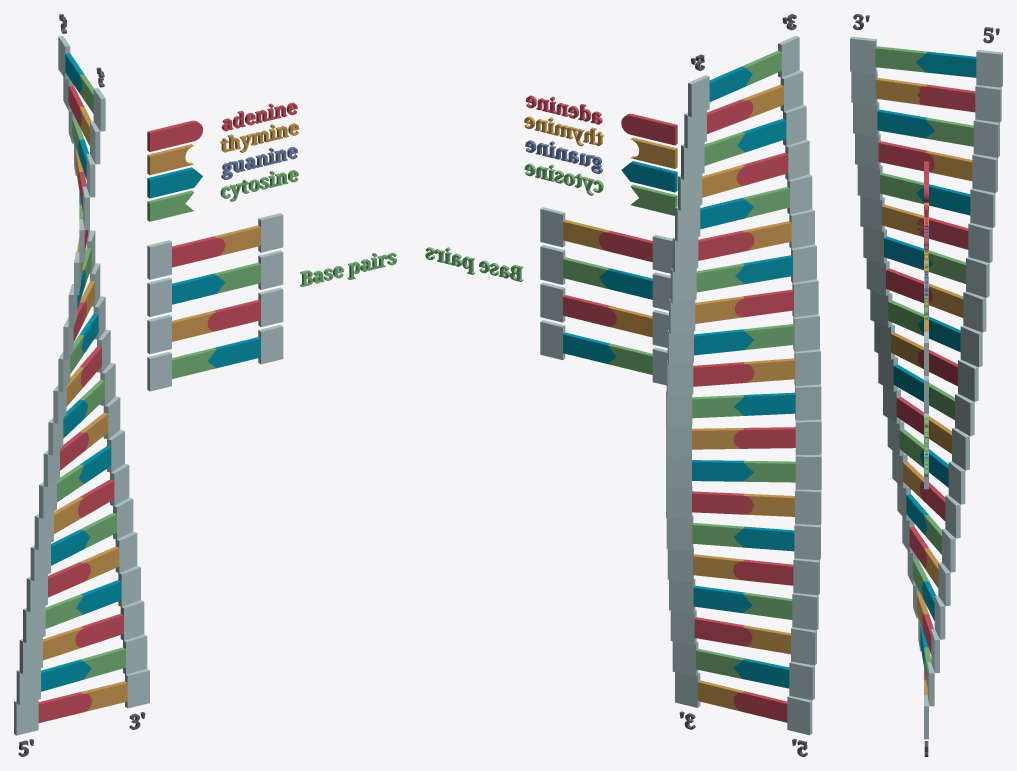
The picture shows the model from 3 angles, left to right: view 1: azimuth 30°, elevation 25°; view 2: azimuth 150°, elevation 25°; view 3: azimuth 270°, elevation 25°; orthographic projection.
Parts seen in each view (by area): view 1: Mesh_Mesh_head_geo.001_lambert2SG.001_0; view 2: Mesh_Mesh_head_geo.001_lambert2SG.001_0; view 3: Mesh_Mesh_head_geo.001_lambert2SG.001_0.
Part boxes in pixels (x1,y1,x2,y2): Mesh_Mesh_head_geo.001_lambert2SG.001_0: (14,14,396,756); Mesh_Mesh_head_geo.001_lambert2SG.001_0: (425,14,821,756); Mesh_Mesh_head_geo.001_lambert2SG.001_0: (850,14,1002,756).
Size of the model in its own units: 85.69 by 150 by 29.35.
